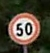limite 50: (7, 13, 41, 44)
